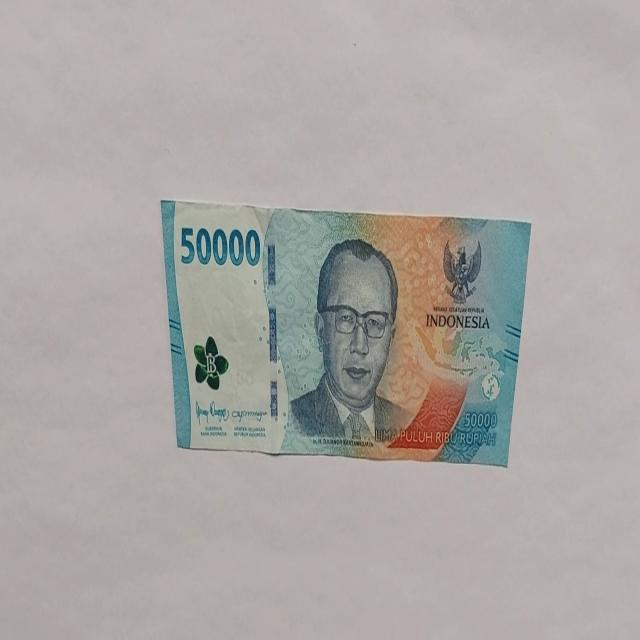lima puluh ribu rupiah: (159, 197, 532, 466), (287, 236, 414, 446), (179, 222, 261, 268)
